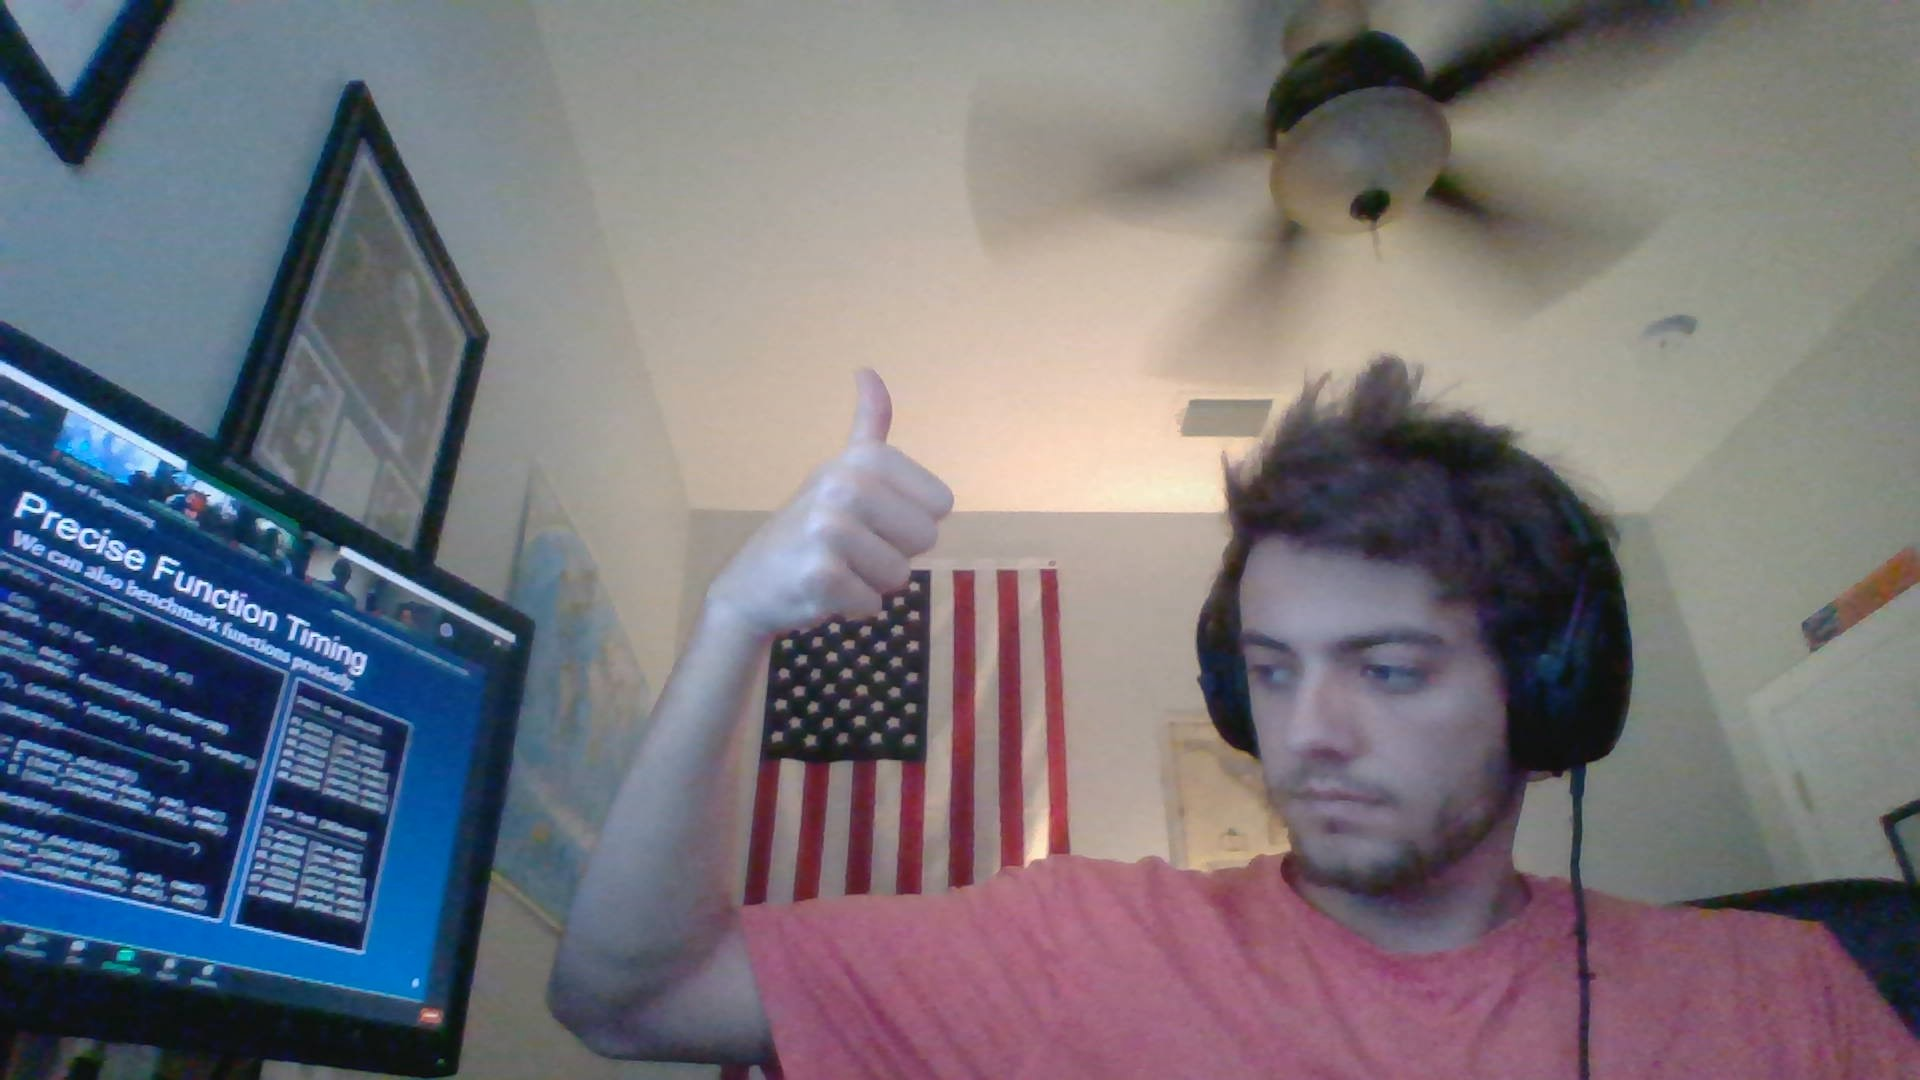Right Thumb Up: (665, 349, 965, 646)
